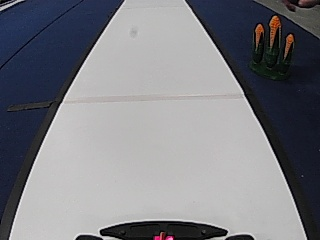corn: (248, 13, 294, 80)
